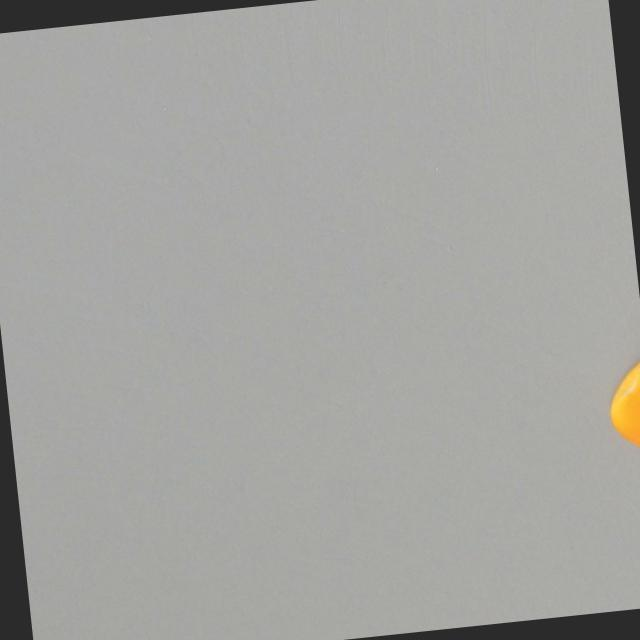no_canjicado: (599, 352, 640, 473)
